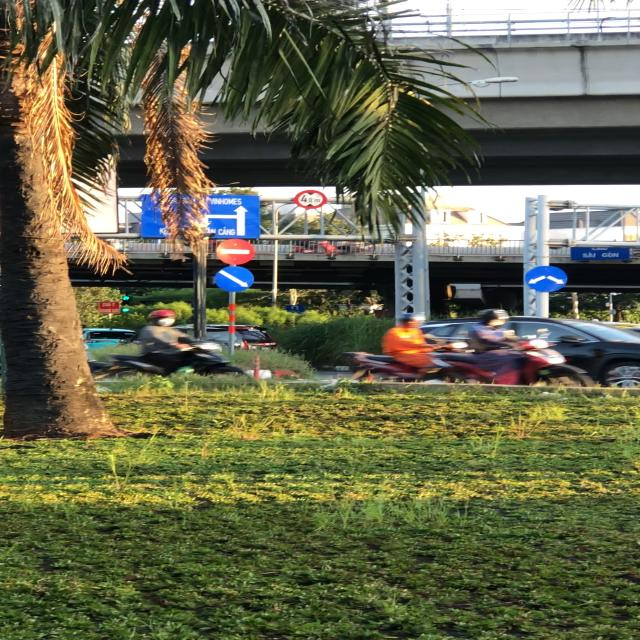Bien bao cam di nguoc chieu: (214, 236, 261, 268)
Bien bao han che chieu cao: (294, 189, 332, 211)
Bien bao huong phai di vong chuong ngai vat: (520, 262, 572, 296), (211, 265, 258, 294)
